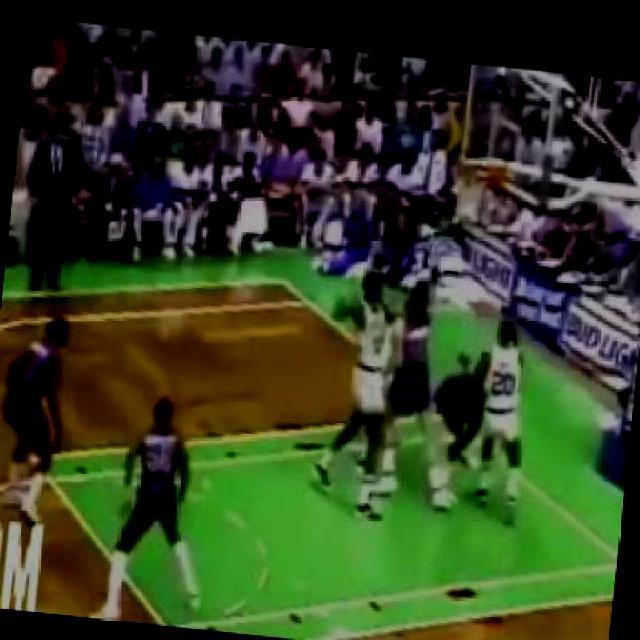fight: (302, 255, 476, 537)
